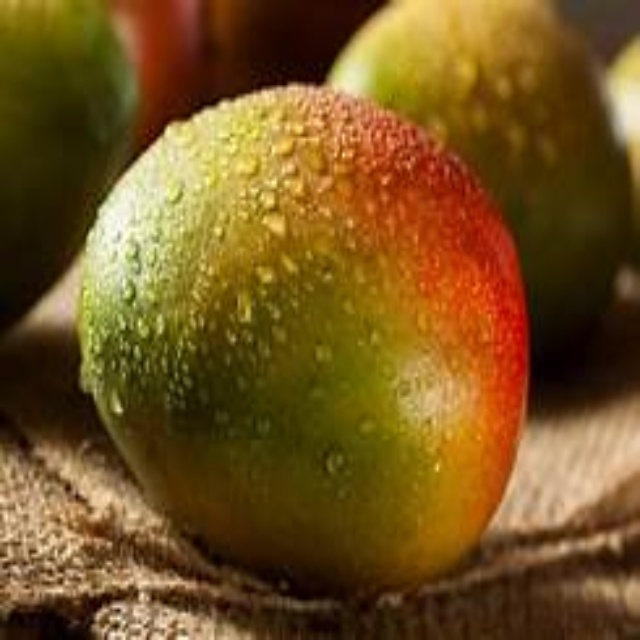mango: (83, 82, 531, 589), (325, 2, 625, 325), (2, 2, 133, 337)
